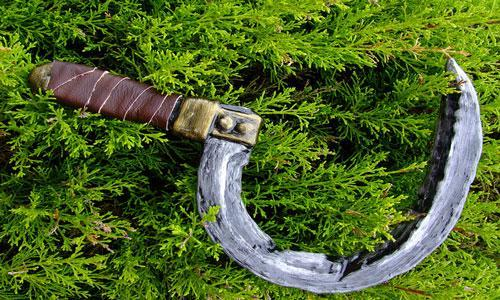foice: (30, 58, 482, 292)
